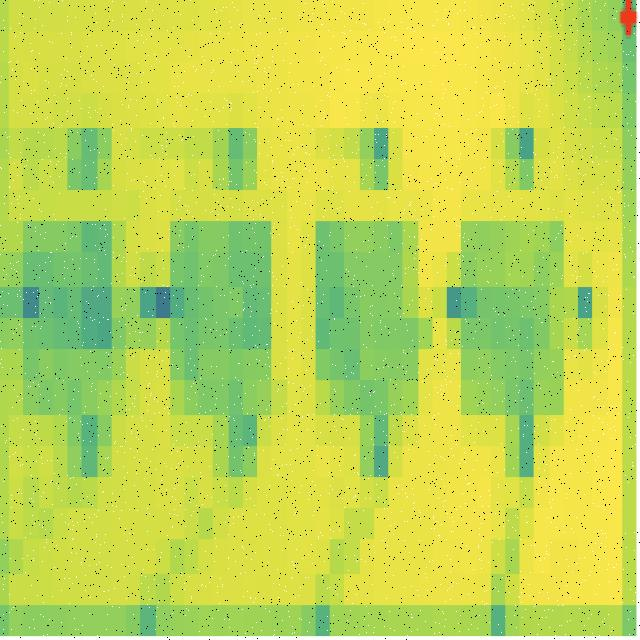Concrete: (454, 209, 575, 435)
Glass: (308, 206, 438, 461)
Metal: (19, 206, 137, 457)
Wood: (159, 210, 291, 470)
